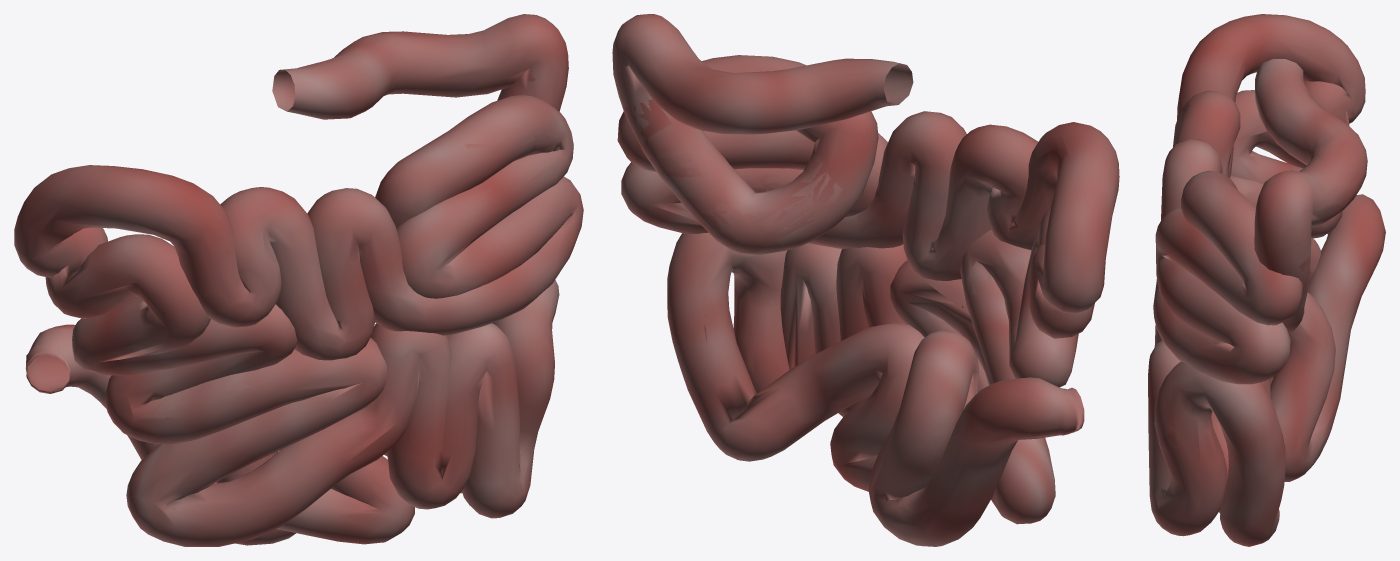
The model's file is smallintestine.glb.
3 renders of one model, left to right at view 1: azimuth 30°, elevation 25°; view 2: azimuth 150°, elevation 25°; view 3: azimuth 270°, elevation 25°, orthographic. The views are drawn at different scales.
Visible parts, largest first — view 1: small; view 2: small; view 3: small.
Boxes of the visible parts, left/top/right/bottom form: small: left=14, top=14, right=583, bottom=546; small: left=612, top=14, right=1119, bottom=546; small: left=1148, top=14, right=1385, bottom=546.
Size of the model in its own units: 1.16 by 0.9978 by 0.502.
Materials: 1 (1 with a texture image).
